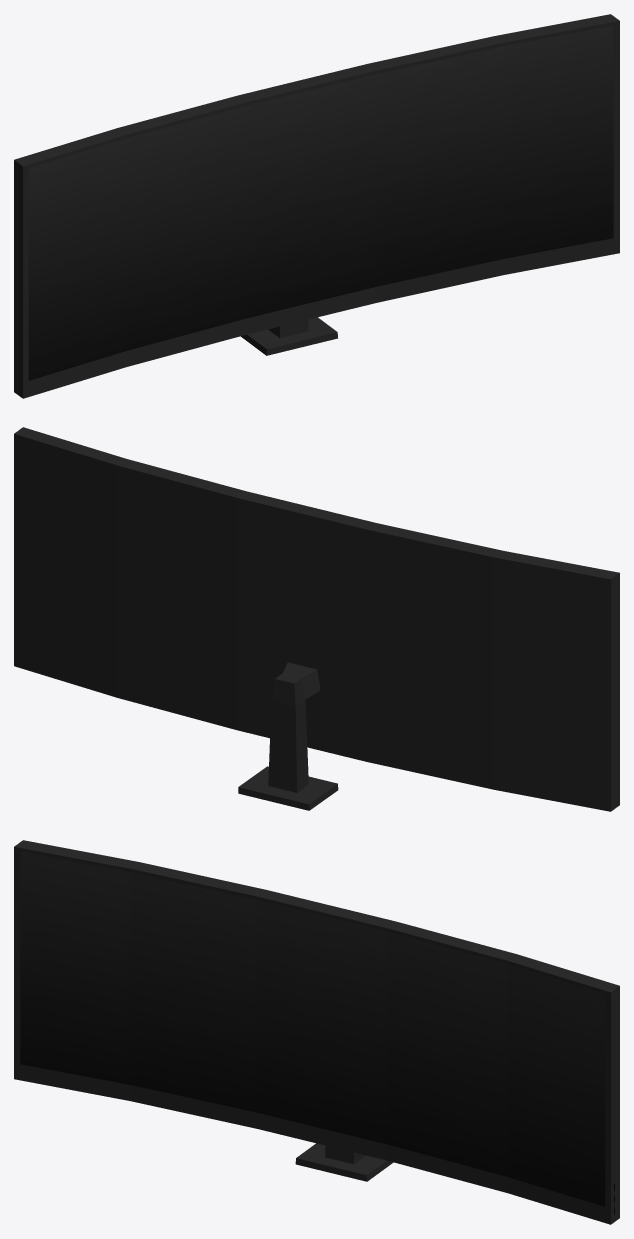
File: MoniterV4.fbx
3 views of the same model, one above another, from view 1: azimuth 30°, elevation 25°; view 2: azimuth 150°, elevation 25°; view 3: azimuth 330°, elevation 25° (orthographic).
Parts seen in each view (by area): view 1: MoniterV4; view 2: MoniterV4; view 3: MoniterV4.
Boxes of the visible parts, box(x1,y1,x2,y2) form: MoniterV4: box(14, 14, 619, 398); MoniterV4: box(14, 427, 619, 811); MoniterV4: box(14, 840, 619, 1224).
Bounding box in the file's own units: 108 × 46.14 × 14.89.
